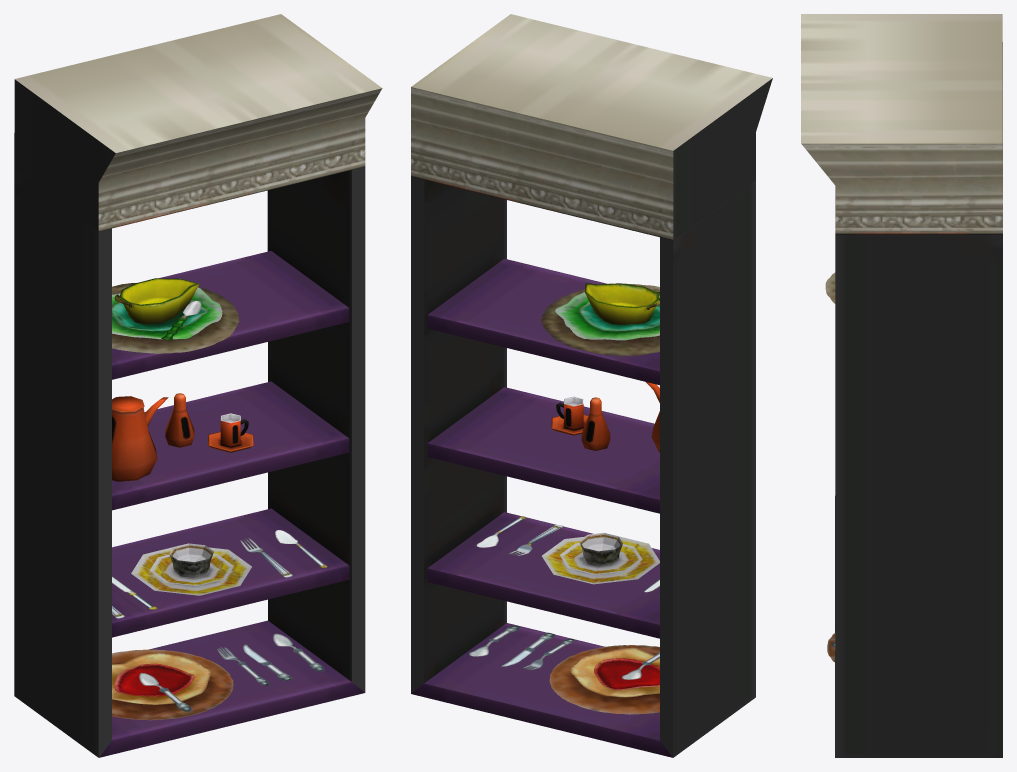
The model's file is furni_0201126_01.FBX.
The picture shows the model from 3 angles, left to right: view 1: azimuth 30°, elevation 25°; view 2: azimuth 150°, elevation 25°; view 3: azimuth 270°, elevation 25°; orthographic projection.
Visible parts, largest first — view 1: furni_0201126_01; view 2: furni_0201126_01; view 3: furni_0201126_01.
Part boxes in pixels (x1,y1,x2,y2): furni_0201126_01: [14, 14, 382, 757]; furni_0201126_01: [411, 14, 772, 757]; furni_0201126_01: [801, 14, 1002, 757].
Bounding box in the file's own units: 81.4 × 180 × 53.62.
1 material, 1 textured.
